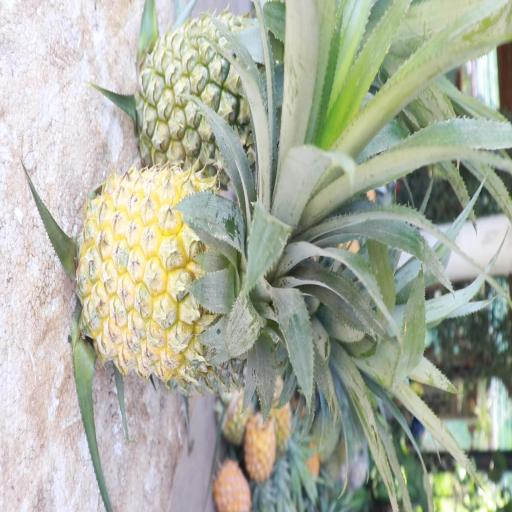------------------------------: (140, 8, 302, 172)
Pineapple - v8 v1: (79, 166, 283, 380), (242, 410, 276, 478)
